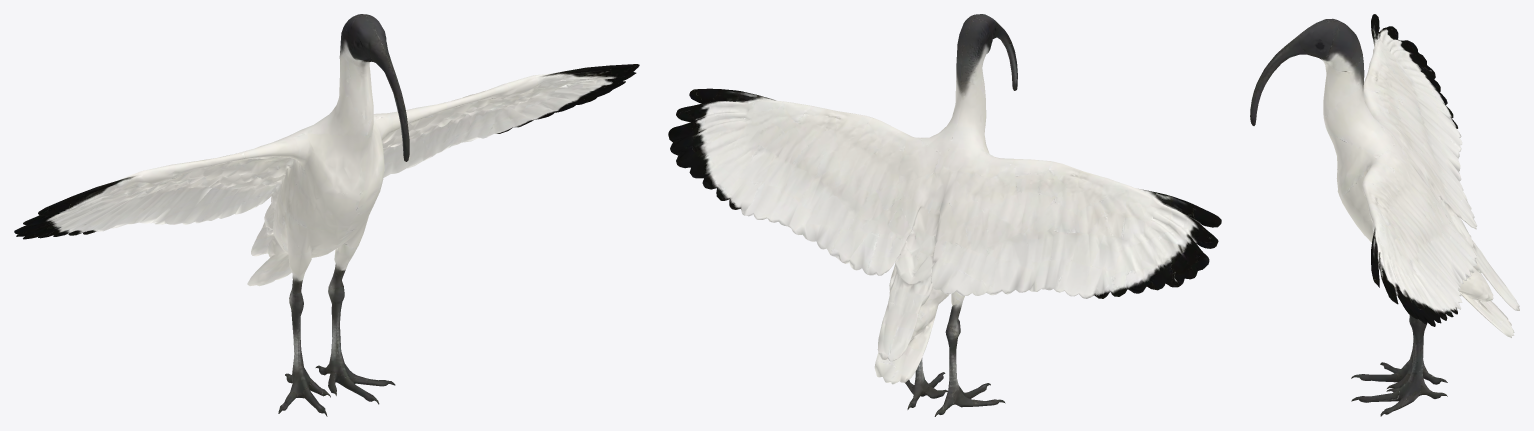
The model's file is heron.glb.
3 views of the same model, side by side, from view 1: azimuth 30°, elevation 25°; view 2: azimuth 150°, elevation 25°; view 3: azimuth 270°, elevation 25° (orthographic). The views are drawn at different scales.
Size of the model in its own units: 1.9 by 1.2 by 0.7891.
1 material, 1 textured.
